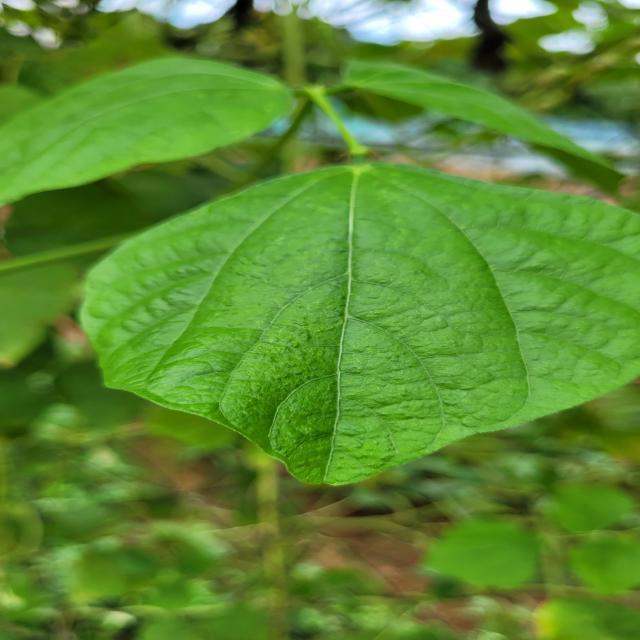Dolicos bean_healthy: (79, 154, 640, 483), (1, 53, 300, 219), (328, 51, 640, 193)
